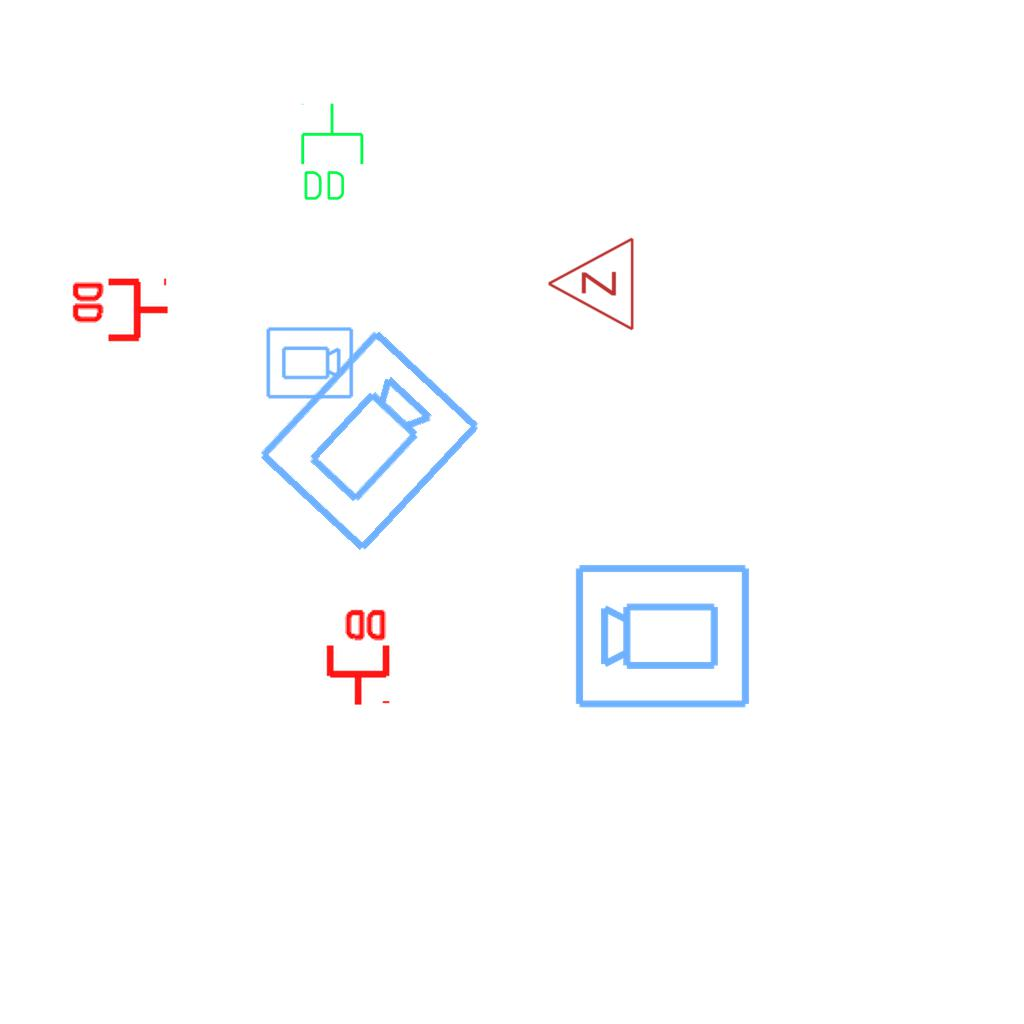Datenanschluss_zweifach: (322, 605, 391, 708), (297, 101, 366, 204), (68, 277, 171, 346)
KFO_Kamera_mit_Festobjektiv: (251, 322, 489, 562), (572, 558, 754, 712), (264, 325, 355, 402)
Zimmersignalleuchte: (541, 236, 641, 334)
